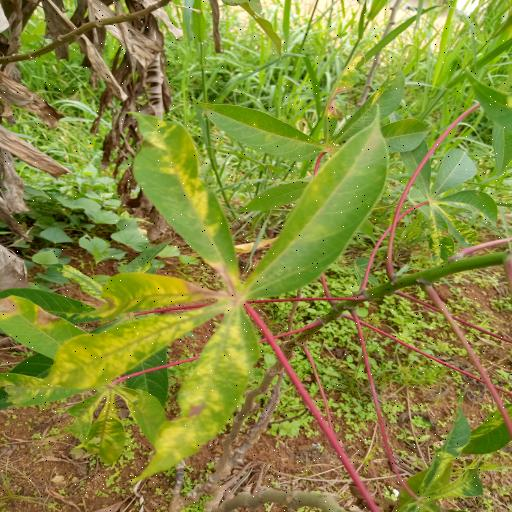Cassava_Brown_Leaf_Spot: (0, 100, 396, 476)
